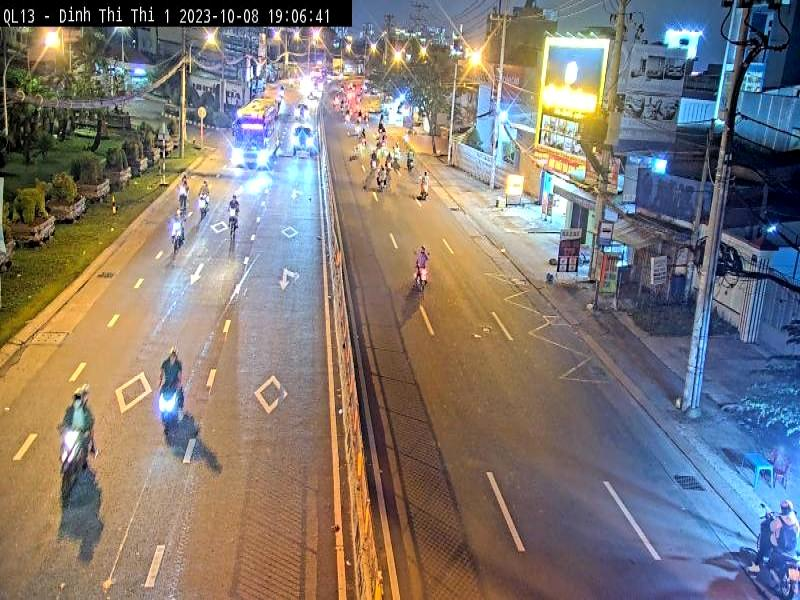bus: (219, 94, 285, 188)
